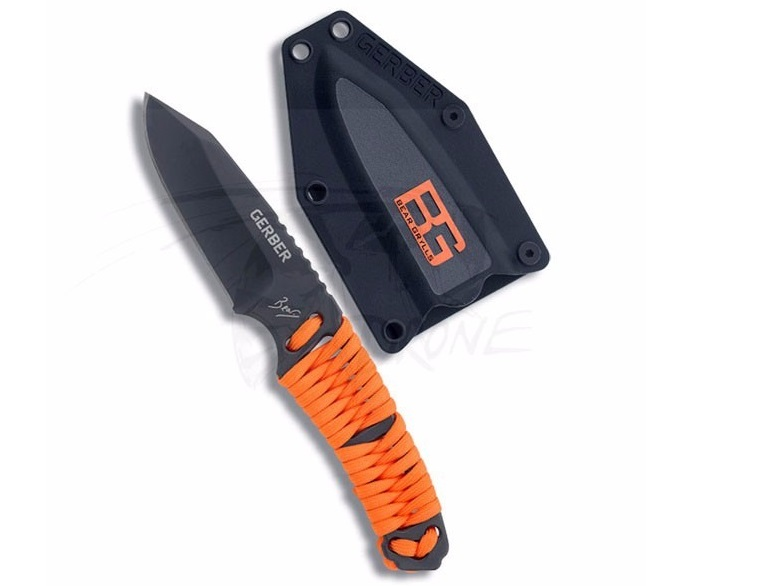knife: (136, 85, 288, 322)
